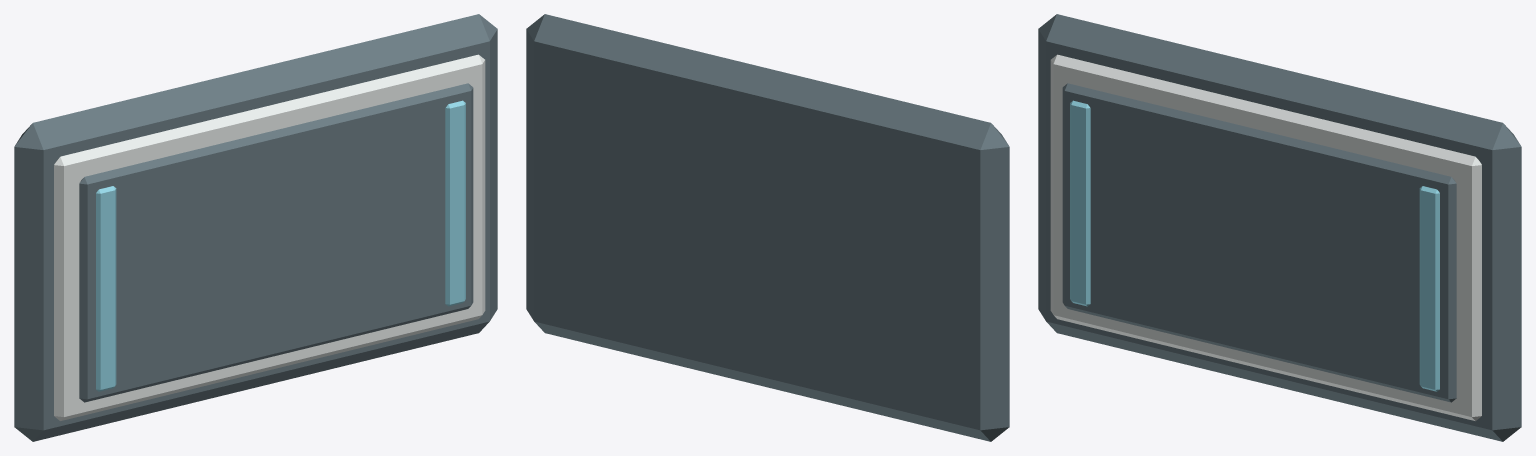
Rendered from FTF_Advanced_CompositeArmorPanel.glb.
3 renders of one model, left to right at view 1: azimuth 30°, elevation 25°; view 2: azimuth 150°, elevation 25°; view 3: azimuth 330°, elevation 25°, orthographic.
Parts seen in each view (by area): view 1: FrontArmorPlate, CarbonBackplate, CeramicCore, EdgeLight_R, EdgeLight_L; view 2: CarbonBackplate; view 3: FrontArmorPlate, CarbonBackplate, CeramicCore, EdgeLight_L, EdgeLight_R.
Part boxes in pixels (x1,y1,x2,y2): FrontArmorPlate: [79, 83, 473, 402]; CarbonBackplate: [14, 14, 497, 441]; CeramicCore: [54, 54, 485, 420]; EdgeLight_R: [445, 100, 465, 306]; EdgeLight_L: [96, 186, 116, 391]; CarbonBackplate: [526, 14, 1009, 441]; FrontArmorPlate: [1062, 83, 1456, 402]; CarbonBackplate: [1038, 14, 1521, 441]; CeramicCore: [1050, 54, 1481, 420]; EdgeLight_L: [1070, 100, 1090, 306]; EdgeLight_R: [1419, 186, 1439, 391].
Bounding box in the file's own units: 1.3 × 0.82 × 0.174.
